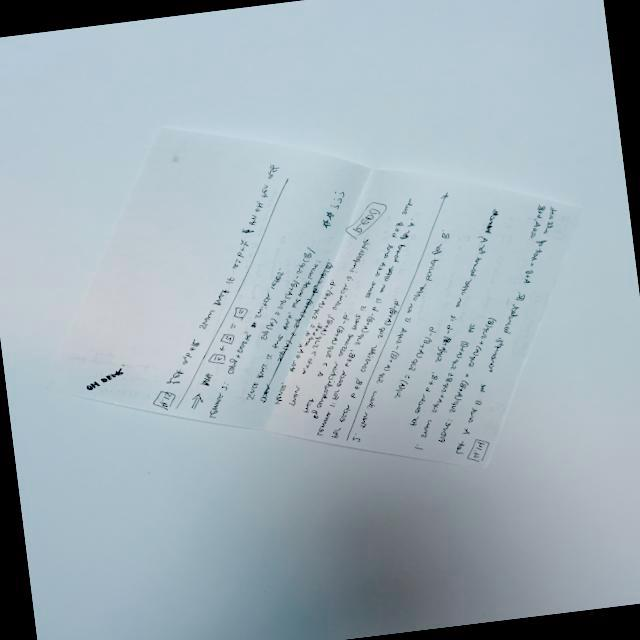paper: (0, 70, 625, 548)
